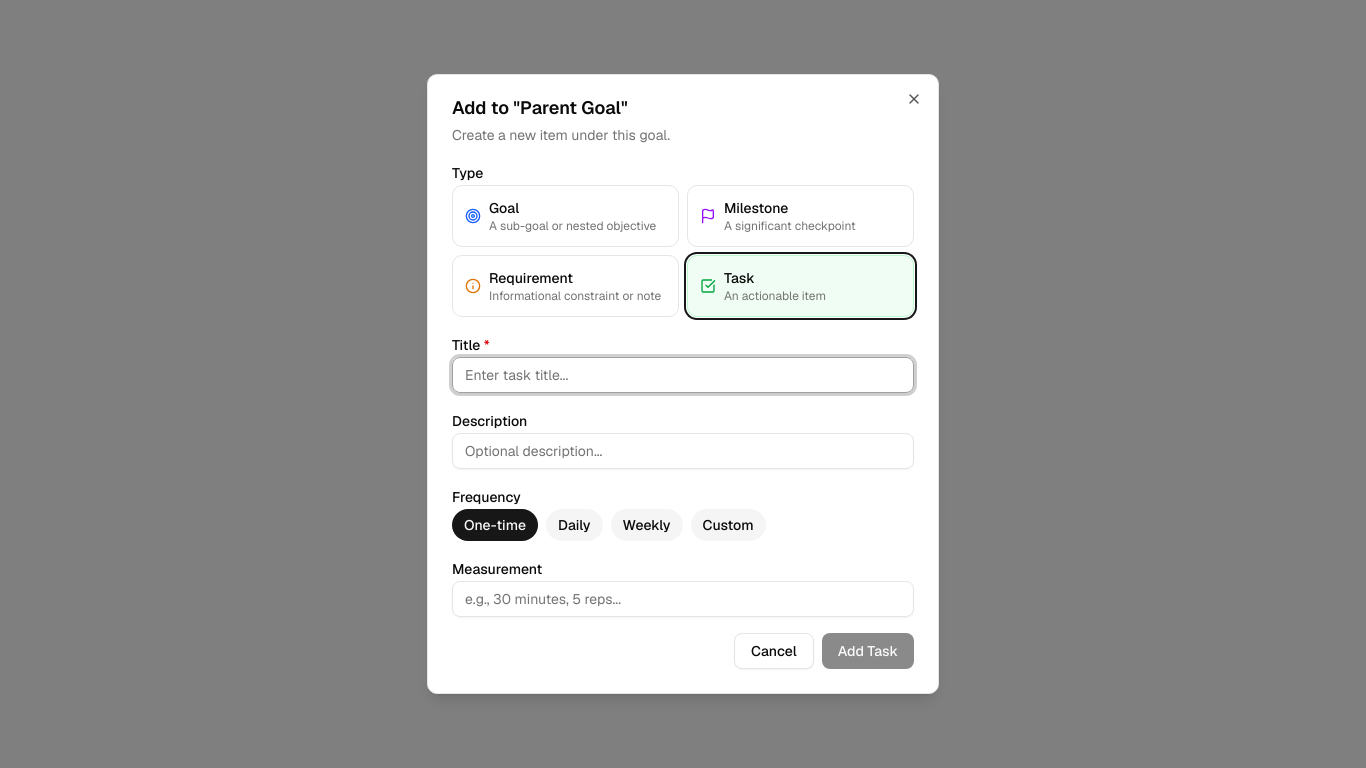
it: AddChildDialog › type selection › hides task-specific fields when another type is selected
This screenshot has width=1366, height=768.
Click the radio button with test id "type-option-goal".
click(566, 216)  # box [452,185,679,247]
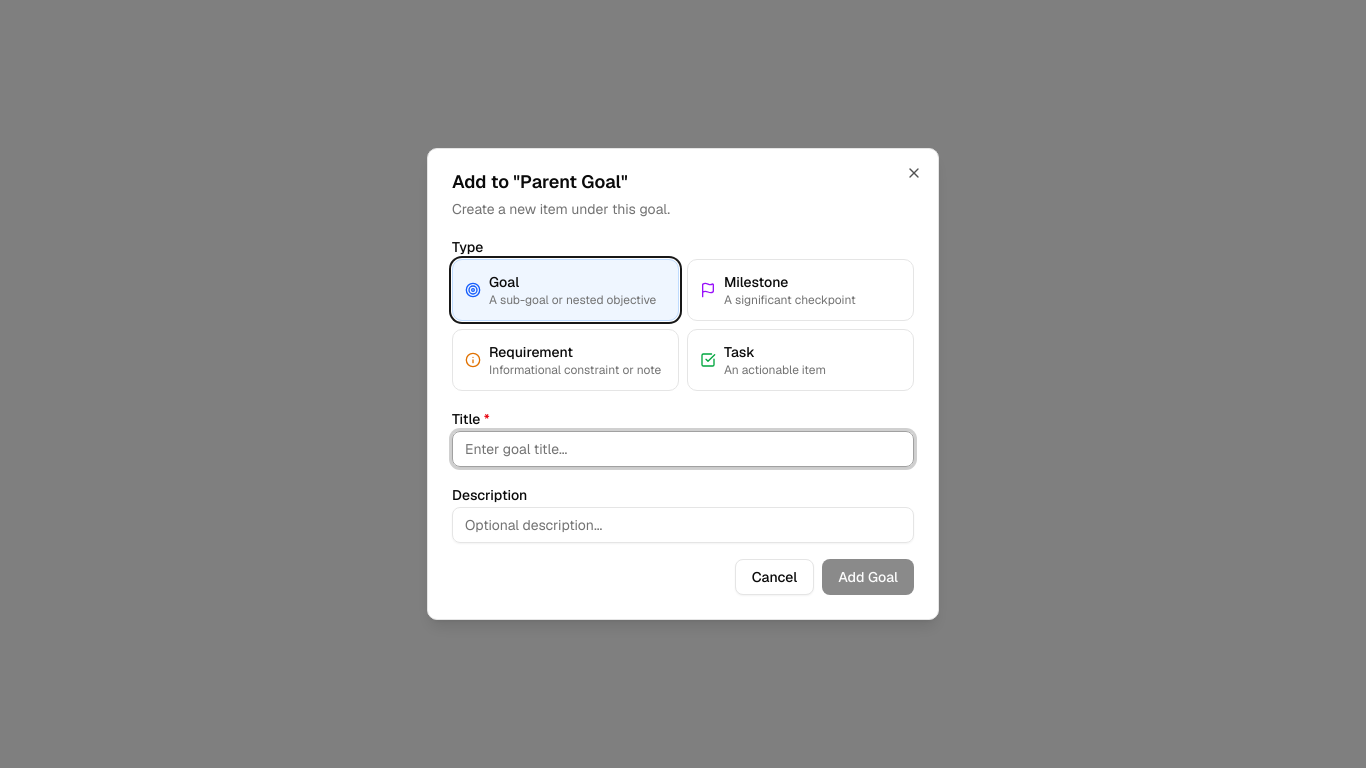
Expected: the element with test id "frequency-selector" is gone
Expected: the field with test id "measurement-input" is gone
